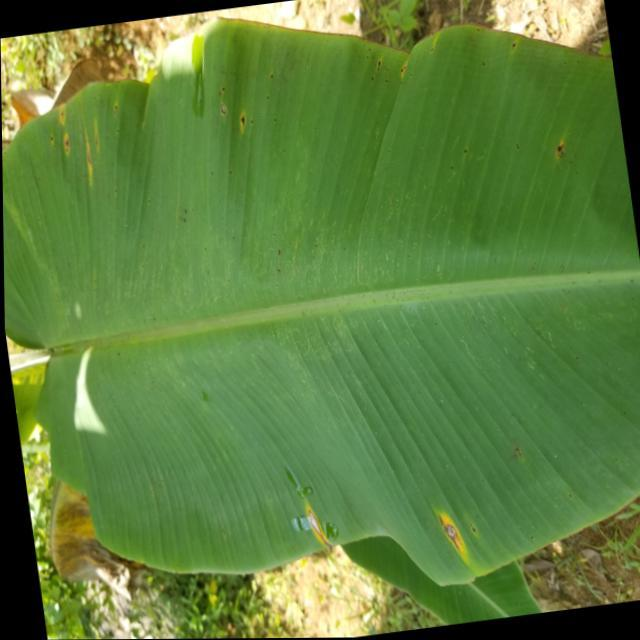Early_rust: (0, 0, 640, 232), (274, 428, 546, 595), (4, 454, 159, 615)
